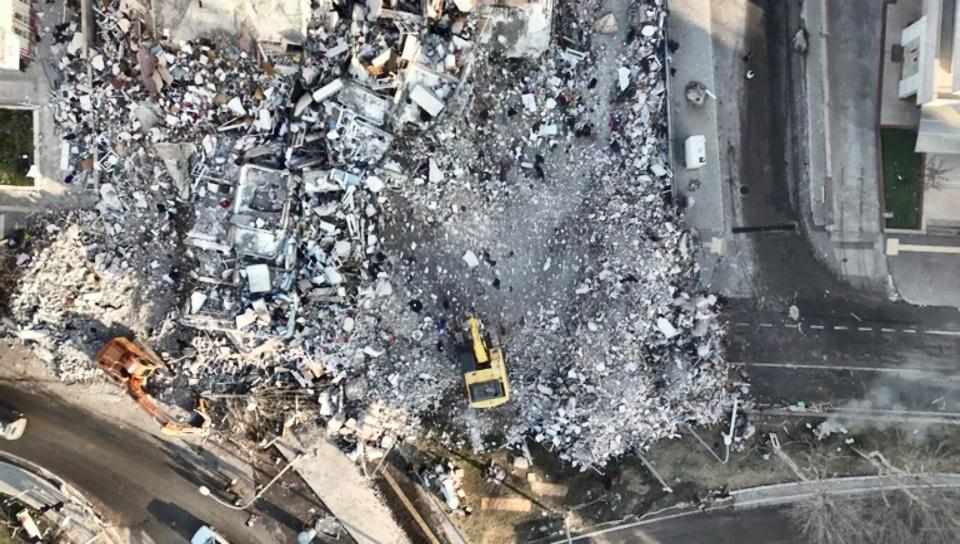kapali: (210, 306, 794, 407)
